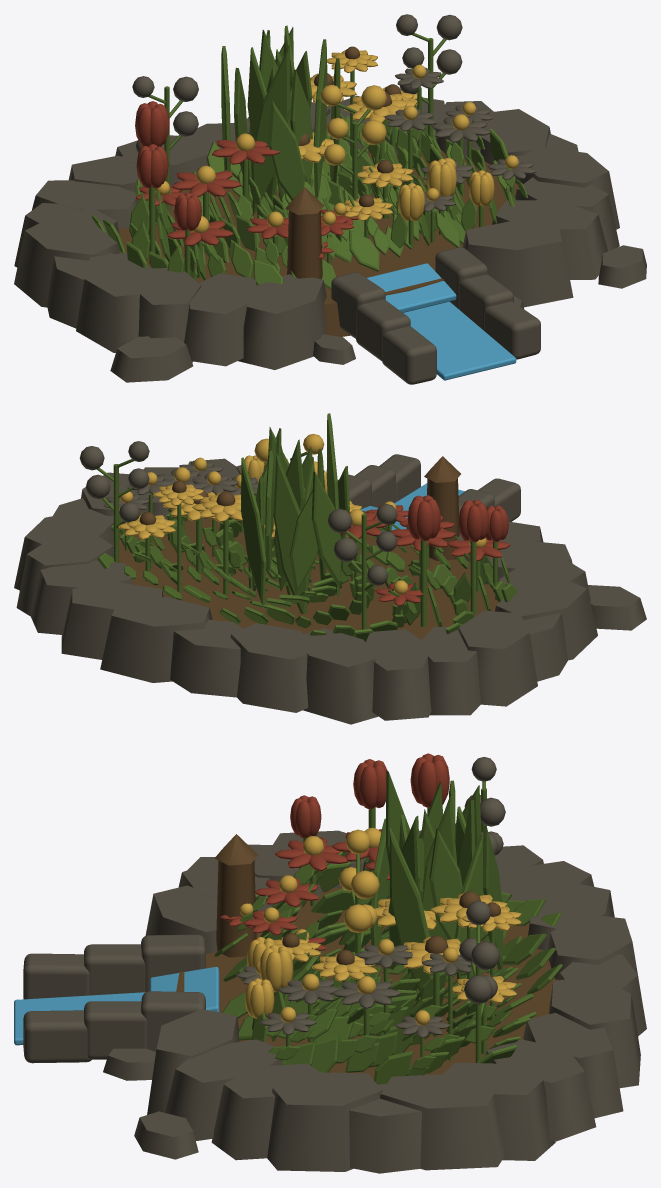
File: flower-bed.glb
3 renders of one model, top to bottom at view 1: azimuth 30°, elevation 25°; view 2: azimuth 150°, elevation 25°; view 3: azimuth 270°, elevation 25°, orthographic. The views are drawn at different scales.
Visible parts, largest first — view 1: flower-bed-farm-stone-dark, flower-bed-farm-leaf, flower-bed-farm-gold, flower-bed-farm-soil, flower-bed-farm-barn-red, flower-bed-farm-water; view 2: flower-bed-farm-stone-dark, flower-bed-farm-leaf, flower-bed-farm-soil, flower-bed-farm-barn-red, flower-bed-farm-gold, flower-bed-farm-water; view 3: flower-bed-farm-stone-dark, flower-bed-farm-leaf, flower-bed-farm-gold, flower-bed-farm-soil, flower-bed-farm-barn-red, flower-bed-farm-water.
Boxes of the visible parts, x1,y1,x2,y2 form: flower-bed-farm-stone-dark: (14,14,646,384); flower-bed-farm-leaf: (92,25,527,289); flower-bed-farm-gold: (155,50,518,233); flower-bed-farm-soil: (118,46,518,336); flower-bed-farm-barn-red: (135,101,358,258); flower-bed-farm-water: (367,263,516,380); flower-bed-farm-stone-dark: (14,441,646,724); flower-bed-farm-leaf: (97,413,517,642); flower-bed-farm-soil: (113,456,498,639); flower-bed-farm-barn-red: (340,495,510,606); flower-bed-farm-gold: (118,434,487,594); flower-bed-farm-water: (360,483,464,531); flower-bed-farm-stone-dark: (23,757,646,1173); flower-bed-farm-leaf: (214,770,562,1084); flower-bed-farm-gold: (239,827,521,1025); flower-bed-farm-soil: (176,834,558,1079); flower-bed-farm-barn-red: (220,753,449,950); flower-bed-farm-water: (14,966,219,1045).
Bounding box in the file's own units: 5.02 × 1.94 × 4.52.
